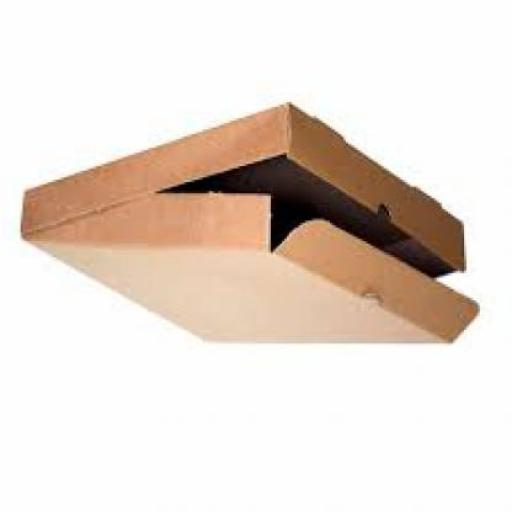cardboard: (22, 102, 480, 346)
